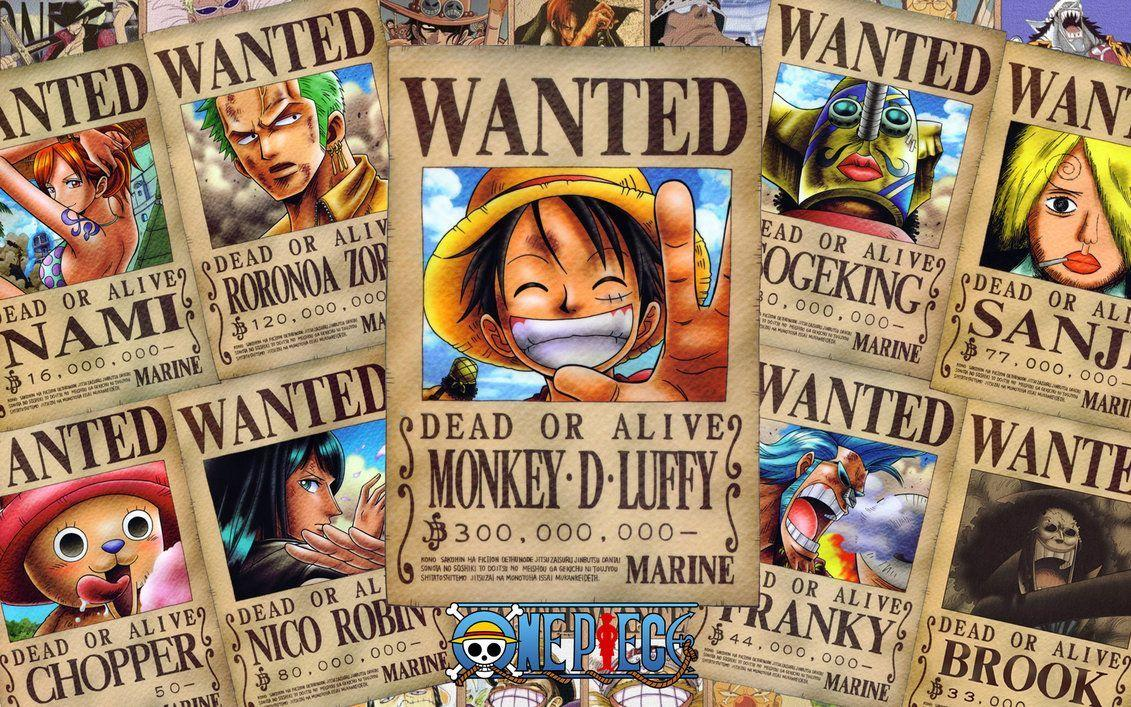chopper: (2, 479, 184, 621)
luffy: (420, 169, 714, 380)
